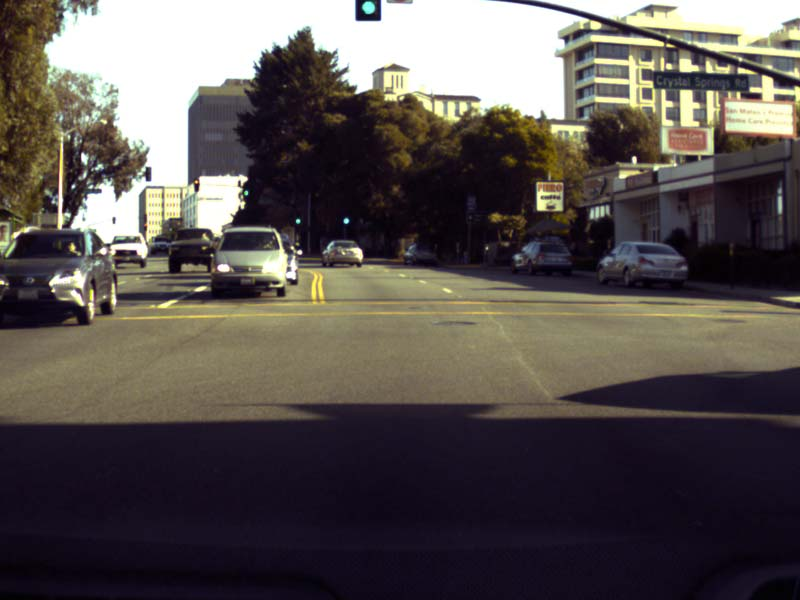Green: (294, 208, 301, 225), (343, 207, 349, 224), (243, 183, 249, 196)
Red: (193, 179, 199, 191), (143, 222, 146, 230)
